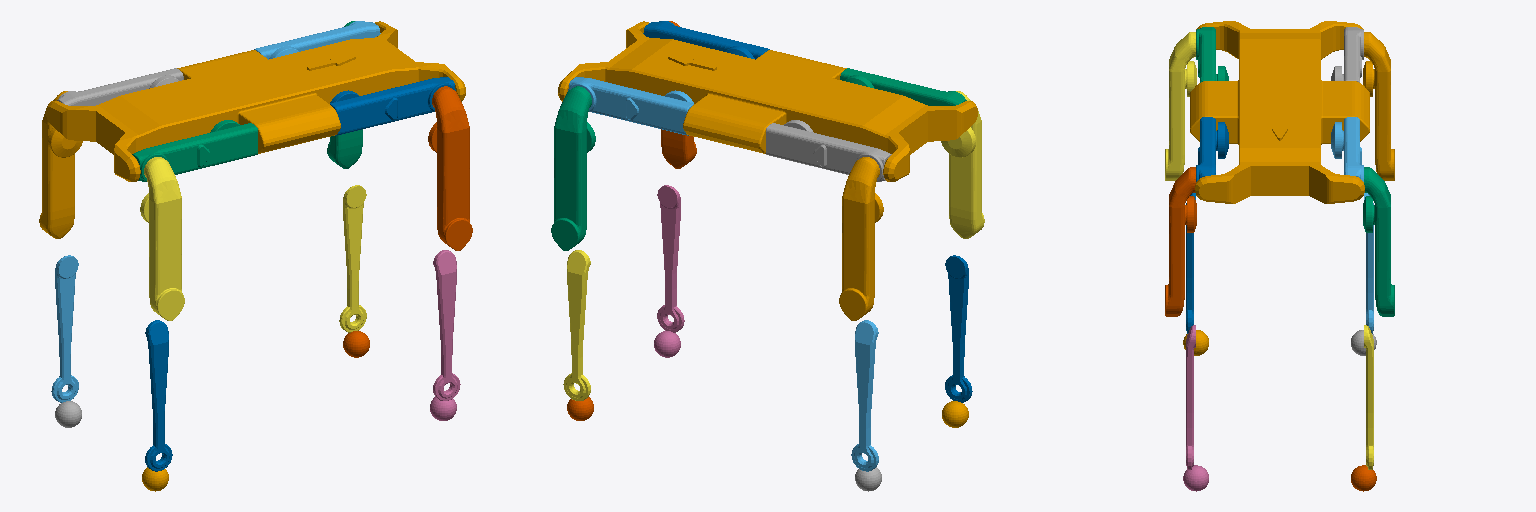
robot.urdf — mini_cheetah:
<?xml version="1.0" ?>
<robot name="mini_cheetah" xmlns:xacro="http://ros.org/wiki/xacro">
<!-- center of mass  0 0.0 0.0        -->
    <!--!!!!!!!!!!!!!!!!!!BODY!!!!!!!!!!!!!!!!!!!!!!!!!!!!!!!-->
    <link name="body">
        <inertial>
            <mass value="1258.31807296e-3"/>
            <origin xyz="-0.43736695e-2 -0.07737584e-2 0.08102850e-2"/>
      <inertia
        ixx="24223.93682550e-7"
        ixy="-907.91818721e-7"
        ixz="43.46649371e-7"
        iyy="186672.18928423e-7"
        iyz="-2.54822989e-7"
        izz="206033.06774587e-7" />
                </inertial>
        <visual>
            <geometry>
                <mesh filename="meshes/solo_12_base.obj"/>
            </geometry>
            <origin rpy="1.5707963267948966 0.0 0.0" xyz="0.0 0.0 0.0"/>
            <!-- <material
        name="base_link">
        <color 
          rgba="0 0 0 0.83" />
      </material> -->
        </visual>
        <!-- <collision>
            <geometry>
                <box size="0.23 0.19 0.1"/>
            </geometry>
            <origin rpy="0 0 0" xyz="0 0 0"/>
        </collision> -->
    </link>
<!-- 0.19 0.049    0.2141 0.0875 -->
<!-- moment sof inertia 0.0 0.036 0.    -11.05511528e-2 0.46677473e-2 -0.00136777e-2 -->
    <!--!!!!!!!!!!!! Front Left Leg !!!!!!!!!!!!!!!!!!!!!!!!!!!!!!!!!!!!-->
    <joint name="torso_to_abduct_fl_j" type="continuous">
        <axis xyz="1 0 0"/>
        <origin rpy="0 0 0" xyz="0.2141 0.0875 0.0 "/> 
        <parent link="body"/>
        <child link="abduct_fl"/>
        <limit effort="18" lower="-1.6" upper="1.6" velocity="40"/>
    </joint>
    <link name="abduct_fl">
        <inertial> 
            <mass value="143.68024490e-3"/>
            <origin xyz="-10.98765927e-2 -0.46677473e-2 0.00136777e-2"/>
      <inertia
        ixx="275.90047445e-7"
        ixy="-254.50227212e-7"
        ixz="0.71210009e-7"
        iyy="3863.78054959e-7"
        iyz="0.03414311e-7"
        izz="3839.41857894e-7" />
        </inertial>
        <visual>
            <geometry>
                <mesh filename="meshes/solo12_hip_fe_fl.obj"/>
            </geometry>
            <origin rpy="1.5707963267948966 0. 0." xyz="0 0 0.0"/>
        </visual>
        <!--
        <collision>
            <geometry>
                <cylinder length ="0.02" radius = "0.0475"/>
            </geometry>
            <origin rpy="0 1.5708 -1.5708" xyz="-0.055 0.0 0.0"/>
        </collision>
        <collision>
            <geometry>
                <cylinder length ="0.06" radius = "0.0475"/>
            </geometry>
            <origin rpy="1.5708 0.0 0.0" xyz="0.0 0.0 0.0"/>
        </collision>
        -->
    </link>

<!-- 0.0 0.062 0.00    -19.65e-3 14e-3 0 -->
    <joint name="abduct_fl_to_thigh_fl_j" type="continuous">
        <axis xyz="0 -1 0"/>
        <origin rpy="0.0 0.0 0.0" xyz="-19.65e-3 14e-3 0"/>
        <parent link="abduct_fl"/>
        <child link="thigh_fl"/>
        <limit effort="18" lower="-2.6" upper="2.6" velocity="40"/>
    </joint>
    <link name="thigh_fl">
        <inertial>
            <mass value="144.14222037e-3"/>
            <origin xyz="0.00174095e-2 1.57310796e-2 -6.91454765e-2"/>
      <inertia
        ixx="3814.98952871e-7"
        ixy="-0.07326249e-7"
        ixz="-0.91813078e-7"
        iyy="3789.60402317e-7"
        iyz="492.68237352e-7"
        izz="325.88466892e-7" />
        </inertial>
        <visual>
            <geometry>
                <mesh filename="meshes/solo12_upper_leg_left_side.obj"/>
            </geometry>
            <origin rpy="1.5707963267948966 0 0" xyz="0 0 0.0"/>
        </visual>
        <!--
        <collision>
            <geometry>
                <cylinder length ="0.21" radius = "0.025"/>
            </geometry>
            <origin rpy="0.0 0.0 0.0" xyz="0.0 0.0 -0.105"/>
        </collision>
        -->
    </link>

    <joint name="thigh_fl_to_knee_fl_j" type="continuous">
        <axis xyz="0 -1 0"/>
        <origin rpy="0.0 0 0.0" xyz="0.0 0.0 -0.209"/>
        <parent link="thigh_fl"/>
        <child link="shank_fl"/>
        <limit effort="26" lower="-2.6" upper="2.6" velocity="26"/>
    </joint>
    <link name="shank_fl">
        <inertial>
            <mass value="44.08831168e-3"/>
            <origin xyz="0.0 0.0 -0.209"/>
            <inertia ixx="0.000245" ixy="0" ixz="0.0" iyy="0.000248" iyz="0" izz="0.000006"/>
        </inertial>
        <visual>
            <geometry>
                <mesh filename="meshes/solo12_lower_leg_v2_left_side.obj"/>
            </geometry>
            <origin rpy="1.5707963267948966 0 0.0" xyz="0.0 0 0 "/>
        </visual>
        <!--
        <collision>
            <geometry>
                <cylinder length ="0.19" radius = "0.015"/>
            </geometry>
            <origin rpy="0.0 3.141592 0.0" xyz="0 0 -0.095"/>
        </collision>
        <collision>
            <geometry>
                <sphere radius = "0.0175"/>
            </geometry>
            <origin rpy="0.0 3.141592 0.0" xyz="0 0 -0.195"/>
        </collision>
        -->
    </link>

<!-- 0.19 -0.049    0.2141 -0.0875 -->
    <!--!!!!!!!!!!!! Front Right Leg !!!!!!!!!!!!!!!!!!!!!!!!!!!!!!!!!!!!-->
    <joint name="torso_to_abduct_fr_j" type="continuous">
        <axis xyz="1 0 0"/>
        <origin rpy="0 0 0" xyz="0.2141 -0.0875 0.0"/>
        <parent link="body"/>
        <child link="abduct_fr"/>
        <limit effort="18" lower="-1.6" upper="1.6" velocity="40"/>
    </joint>
    <link name="abduct_fr">
        <inertial>
            <mass value="143.68024490e-3"/>
            <origin xyz="-11.05511528e-2 0.46677473e-2 -0.00136777e-2"/>
      <inertia
        ixx="275.90047445e-7"
        ixy="249.97824669e-7"
        ixz="-0.69884355e-7"
        iyy="4013.39961851e-7"
        iyz="0.03414311e-7"
        izz="3989.03764786e-7" />
        </inertial>
        <visual>
            <geometry>
                <mesh filename="meshes/solo12_hip_fe_fr.obj"/>
            </geometry>
            <origin rpy="1.5707963267948966 0.0 0" xyz="0 0.0 0.0"/>
        </visual>
        <!--
        <collision>
            <geometry>
                <cylinder length ="0.02" radius = "0.0475"/>
            </geometry>
            <origin rpy="3.141592 1.5708 1.5708" xyz="-0.055 0 0"/>
        </collision>
        <collision>
            <geometry>
                <cylinder length ="0.06" radius = "0.0475"/>
            </geometry>
            <origin rpy="1.5708 0.0 0.0" xyz="-0.055 0 0"/>
        </collision>
        -->
    </link>

<!-- 0.0 -0.062 0.00    -19.65e-3 -14e-3 0 -->
    <joint name="abduct_fr_to_thigh_fr_j" type="continuous">
        <axis xyz="0 -1 0"/>
        <origin rpy="0.0 0.0 0.0" xyz="-19.65e-3 -14e-3 0"/>
        <parent link="abduct_fr"/>
        <child link="thigh_fr"/>
        <limit effort="18" lower="-2.6" upper="2.6" velocity="40"/>
    </joint>
    <link name="thigh_fr">
        <inertial>
            <mass value="144.14222037e-3"/>
            <origin xyz="-0.00174095e-2 -1.57310796e-2 -6.91454765e-2"/>
      <inertia
        ixx="3814.98952871e-7"
        ixy="-0.07326249e-7"
        ixz="0.91813078e-7"
        iyy="3789.60402317e-7"
        iyz="-492.68237352e-7"
        izz="325.88466892e-7" />
        </inertial>
        <visual>
            <geometry>
                <mesh filename="meshes/solo12_upper_leg_right_side.obj"/>
            </geometry>
            <origin rpy="1.5707963267948966 0 0" xyz="0.0 0.0 0.0"/>
        </visual>
        <!--
        <collision>
            <geometry>
                <cylinder length ="0.21" radius = "0.025"/>
            </geometry>
            <origin rpy="0.0 0.0 0.0" xyz="0.0 0.0 -0.105"/>
        </collision>
        -->
    </link>

    <joint name="thigh_fr_to_knee_fr_j" type="continuous">
        <axis xyz="0 -1 0"/>
        <origin rpy="0.0 0 0.0" xyz="0.0 0.0 -0.209"/>
        <parent link="thigh_fr"/>
        <child link="shank_fr"/>
        <limit effort="26" lower="-2.6" upper="2.6" velocity="26"/>
    </joint>
    <link name="shank_fr">
        <inertial>
            <mass value="44.08831168e-3"/>
            <origin xyz="0.0 0.0 -0.209"/>
            <inertia ixx="0.000245" ixy="0" ixz="0.0" iyy="0.000248" iyz="0" izz="0.000006"/>
        </inertial>
        <visual>
            <geometry>
                <mesh filename="meshes/solo12_lower_leg_v2_right_side.obj"/>
            </geometry>
            <origin rpy="1.5707963267948966 0 0.0" xyz="0.0 0.0 0.0"/>
        </visual>
        <!--
        <collision>
            <geometry>
                <cylinder length ="0.19" radius = "0.015"/>
            </geometry>
            <origin rpy="0.0 3.141592 0.0" xyz="0.0 0.0 -0.095"/>
        </collision>
        <collision>
            <geometry>
                <sphere radius = "0.0175"/>
            </geometry>
            <origin rpy="0.0 3.141592 0" xyz="0.0 0.0 -0.195"/>
        </collision>
        -->
    </link>

<!-- -0.19 0.049    -0.2141 0.0875 -->
    <!--!!!!!!!!!!!! Hind Left Leg !!!!!!!!!!!!!!!!!!!!!!!!!!!!!!!!!!!!-->
    <joint name="torso_to_abduct_hl_j" type="continuous">
        <axis xyz="1 0 0"/>
        <origin rpy="0 0 0" xyz="-0.2141 0.0875 0.0"/>
        <parent link="body"/>
        <child link="abduct_hl"/>
        <limit effort="18" lower="-1.6" upper="1.6" velocity="40"/>
    </joint>
    <link name="abduct_hl">
        <inertial>
            <mass value="143.68024490e-3"/>
            <origin xyz="11.05511528e-2 -0.46677473e-2 -0.00136777e-2"/>
      <inertia
        ixx="275.90047445e-7"
        ixy="249.97824669e-7"
        ixz="0.69884355e-7"
        iyy="4013.39961851e-7"
        iyz="-0.03414311e-7"
        izz="3989.03764786e-7" />
        </inertial>
        <visual>
            <geometry>
                <mesh filename="meshes/solo12_hip_fe_hl.obj"/>
            </geometry>
            <origin rpy="1.5707963267948966 0.0 0" xyz="0 0.0 0.0"/>
        </visual>
        <!--
        <collision>
            <geometry>
                <cylinder length ="0.02" radius = "0.0475"/>
            </geometry>
            <origin rpy="3.141592 1.5708 -1.5708" xyz="0.055 0 0"/>
        </collision>
        <collision>
            <geometry>
                <cylinder length ="0.06" radius = "0.0475"/>
            </geometry>
            <origin rpy="1.5708 0.0 0.0" xyz="0.0 0.0 0.0"/>
        </collision>
        -->
    </link>

<!-- 0.0 0.062 0.00    19.65e-3 14e-3 0 -->
    <joint name="abduct_hl_to_thigh_hl_j" type="continuous">
        <axis xyz="0 -1 0"/>
        <origin rpy="0.0 0.0 0.0" xyz="19.65e-3 14e-3 0 "/>
        <parent link="abduct_hl"/>
        <child link="thigh_hl"/>
        <limit effort="18" lower="-2.6" upper="2.6" velocity="40"/>
    </joint>
    <link name="thigh_hl">
        <inertial>
            <mass value="144.14222037e-3"/>
            <origin xyz="0.00174095e-2 1.57310796e-2 -6.91454765e-2"/>
      <inertia
        ixx="3814.98952871e-7"
        ixy="-0.07326249e-7"
        ixz="-0.91813078e-7"
        iyy="3789.60402317e-7"
        iyz="492.68237352e-7"
        izz="325.88466892e-7" />
        </inertial>
        <visual>
            <geometry>
                <mesh filename="meshes/solo12_upper_leg_left_side.obj"/>
            </geometry>
            <origin rpy="1.5707963267948966 0 0" xyz="0.0 0.0 0.0"/>
        </visual>
        <!--
        <collision>
            <geometry>
                <cylinder length ="0.21" radius = "0.025"/>
            </geometry>
            <origin rpy="0.0 0.0 0.0" xyz="0.0 0.0 -0.105"/>
        </collision>
        -->
    </link>

    <joint name="thigh_hl_to_knee_hl_j" type="continuous">
        <axis xyz="0 -1 0"/>
        <origin rpy="0.0 0 0.0" xyz="0.0 0.0 -0.209"/>
        <parent link="thigh_hl"/>
        <child link="shank_hl"/>
        <limit effort="26" lower="-2.6" upper="2.6" velocity="26"/>
    </joint>
    <link name="shank_hl">
        <inertial>
            <mass value="44.08831168e-3"/>
            <origin xyz="0.0 0.0 -0.209"/>
            <inertia ixx="0.000245" ixy="0" ixz="0.0" iyy="0.000248" iyz="0" izz="0.000006"/>
        </inertial>
        <visual>
            <geometry>
                <mesh filename="meshes/solo12_lower_leg_v2_left_side.obj"/>
            </geometry>
            <origin rpy="1.5707963267948966 0 0.0" xyz="0.0 0.0 0.0"/>
        </visual>
        <!--
        <collision>
            <geometry>
                <cylinder length ="0.19" radius = "0.015"/>
            </geometry>
            <origin rpy="0.0 3.141592 0.0" xyz="0.0 0.0 -0.095"/>
        </collision>
        <collision>
            <geometry>
                <sphere radius = "0.0175"/>
            </geometry>
            <origin rpy="0.0 3.141592 0.0" xyz="0.0 0.0 -0.195"/>
        </collision>
        -->
    </link>

<!-- -0.19 -0.049    -0.2141 -0.0875 -->
    <!--!!!!!!!!!!!! Hind Right Leg !!!!!!!!!!!!!!!!!!!!!!!!!!!!!!!!!!!!-->
    <joint name="torso_to_abduct_hr_j" type="continuous">
        <axis xyz="1 0 0"/>
        <origin rpy="0 0 0" xyz="-0.2141 -0.0875 0.0"/>
        <parent link="body"/>
        <child link="abduct_hr"/>
        <limit effort="18" lower="-1.6" upper="1.6" velocity="40"/>
    </joint>
    <link name="abduct_hr">
        <inertial>
            <mass value="143.68024490e-3"/>
            <origin xyz="10.98765927e-2 0.46677473e-2 0.00136777e-2"/>
      <inertia
        ixx="275.90047445e-7"
        ixy="254.50227212e-7"
        ixz="-0.71210009e-7"
        iyy="3863.78054959e-7"
        iyz="-0.03414311e-7"
        izz="3839.41857894e-7" />
        </inertial>
        <visual>
            <geometry>
                <mesh filename="meshes/solo12_hip_fe_hr.obj"/>
            </geometry>
            <origin rpy="1.5707963267948966 0.0 0" xyz="0 0.0 0.0"/>
        </visual>
        <!--
        <collision>
            <geometry>
                <cylinder length ="0.02" radius = "0.0475"/>
            </geometry>
            <origin rpy="0.0 1.5708 1.5708" xyz="0.055 0.0 0.0"/>
        </collision>
        <collision>
            <geometry>
                <cylinder length ="0.06" radius = "0.0475"/>
            </geometry>
            <origin rpy="1.5708 0.0 0.0" xyz="0.0 0.0 0.0"/>
        </collision>
        -->
    </link>

<!-- 0.0 -0.062 0.00    19.65e-3 -14e-3 0 -->
    <joint name="abduct_hr_to_thigh_hr_j" type="continuous">
        <axis xyz="0 -1 0"/>
        <origin rpy="0.0 0.0 0.0" xyz="19.65e-3 -14e-3 0"/>
        <parent link="abduct_hr"/>
        <child link="thigh_hr"/>
        <limit effort="18" lower="-2.6" upper="2.6" velocity="40"/>
    </joint>
    <link name="thigh_hr">
        <inertial>
            <mass value="144.14222037e-3"/>
            <origin xyz="-0.00174095e-2 -1.57310796e-2 -6.91454765e-2"/>
      <inertia
        ixx="3814.98952871e-7"
        ixy="-0.07326249e-7"
        ixz="0.91813078e-7"
        iyy="3789.60402317e-7"
        iyz="-492.68237352e-7"
        izz="325.88466892e-7" />
        </inertial>
        <visual>
            <geometry>
                <mesh filename="meshes/solo12_upper_leg_right_side.obj"/>
            </geometry>
            <origin rpy="1.5707963267948966 0 0" xyz="0.0 0.0 0.0"/>
        </visual>
        <!--
        <collision>
            <geometry>
                <cylinder length ="0.21" radius = "0.025"/>
            </geometry>
            <origin rpy="0.0 0.0 0.0" xyz="0.0 0.0 -0.105"/>
        </collision>
        -->
    </link>

    <joint name="thigh_hr_to_knee_hr_j" type="continuous">
        <axis xyz="0 -1 0"/>
        <origin rpy="0.0 0 0.0" xyz="0.0 0.0 -0.209"/>
        <parent link="thigh_hr"/>
        <child link="shank_hr"/>
        <limit effort="26" lower="-2.6" upper="2.6" velocity="26"/>
    </joint>
    <link name="shank_hr">
        <inertial>
            <mass value="44.08831168e-3"/>
            <origin xyz="0.0 0.0 -0.209"/>
            <inertia ixx="0.000245" ixy="0" ixz="0.0" iyy="0.000248" iyz="0" izz="0.000006"/>
        </inertial>
        <visual>
            <geometry>
                <mesh filename="meshes/solo12_lower_leg_v2_right_side.obj"/>
            </geometry>
            <origin rpy="1.5707963267948966 0 0.0" xyz="0 0 0"/>
        </visual>
        <!--
        <collision>
            <geometry>
                <cylinder length ="0.19" radius = "0.015"/>
            </geometry>
            <origin rpy="0.0 3.141592 0.0" xyz="0 0 -0.095"/>
        </collision>
        <collision>
            <geometry>
                <sphere radius = "0.0175"/>
            </geometry>
            <origin rpy="0.0 3.141592 0.0" xyz="0.0 0.0 -0.195"/>
        </collision>
        -->
    </link>

<!-- distance 0.0175  0.0159  r=  0.190 0.0159 -->
    <!-- Add foot links to enable relevent computations, including better collision detection -->
    <joint name="shank_fl_to_foot_fl" type="fixed">
        <parent link="shank_fl"/>
        <child link="LF_FOOT"/>
        <origin rpy="0.0 0.0 0.0" xyz="0.0 0.0 -0.190"/>
    </joint>
    <link name="LF_FOOT">
        <inertial>
            <mass value="0.005"/>
        </inertial>
        <collision>
            <geometry>
                <sphere radius = "0.0159"/>
            </geometry>
            <origin rpy="0.0 0.0 0.0" xyz="0.0 0.0 0.0"/>
        </collision>
        <visual>
            <geometry>
                <sphere radius = "0.0159"/>
            </geometry>
            <origin rpy="0.0 0.0 0.0" xyz="0.0 0.0 0.0"/>
        </visual>
    </link>
    
    <joint name="shank_fr_to_foot_fr" type="fixed">
        <parent link="shank_fr"/>
        <child link="RF_FOOT"/>
        <origin rpy="0.0 0.0 0.0" xyz="0.0 0.0 -0.190"/>
    </joint>
    <link name="RF_FOOT">
        <inertial>
            <mass value="0.005"/>
        </inertial>
        <collision>
            <geometry>
                <sphere radius = "0.0159"/>
            </geometry>
            <origin rpy="0.0 0.0 0.0" xyz="0.0 0.0 0.0"/>
        </collision>
        <visual>
            <geometry>
                <sphere radius = "0.0159"/>
            </geometry>
            <origin rpy="0.0 0.0 0.0" xyz="0.0 0.0 0.0"/>
        </visual>
    </link>
    
    <joint name="shank_hl_to_foot_hl" type="fixed">
        <parent link="shank_hl"/>
        <child link="LH_FOOT"/>
        <origin rpy="0.0 0.0 0.0" xyz="0.0 0.0 -0.190"/>
    </joint>
    <link name="LH_FOOT">
        <inertial>
            <mass value="0.005"/>
        </inertial>
        <collision>
            <geometry>
                <sphere radius = "0.0159"/>
            </geometry>
            <origin rpy="0.0 0.0 0.0" xyz="0.0 0.0 0.0"/>
        </collision>
        <visual>
            <geometry>
                <sphere radius = "0.0159"/>
            </geometry>
            <origin rpy="0.0 0.0 0.0" xyz="0.0 0.0 0.0"/>
        </visual>
    </link>
    
    <joint name="shank_hr_to_foot_hr" type="fixed">
        <parent link="shank_hr"/>
        <child link="RH_FOOT"/>
        <origin rpy="0.0 0.0 0.0" xyz="0.0 0.0 -0.190"/>
    </joint>
    <link name="RH_FOOT">
        <inertial>
            <mass value="0.005"/>
        </inertial>
        <collision>
            <geometry>
                <sphere radius = "0.0159"/>
            </geometry>
            <origin rpy="0.0 0.0 0.0" xyz="0.0 0.0 0.0"/>
        </collision>
        <visual>
            <geometry>
                <sphere radius = "0.0159"/>
            </geometry>
            <origin rpy="0.0 0.0 0.0" xyz="0.0 0.0 0.0"/>
        </visual>
    </link>

    <!-- Joint Transmissions: Tells Drake that these are actuated -->
    <transmission name="torso_to_abduct_fl_j_transmission">
        <type>transmission_interface/SimpleTransmission</type>
        <joint name="torso_to_abduct_fl_j"/>
        <actuator name="torso_to_abduct_fl_j_actuator"/>
    </transmission>
    <transmission name="abduct_fl_to_thigh_fl_j_transmission">
        <type>transmission_interface/SimpleTransmission</type>
        <joint name="abduct_fl_to_thigh_fl_j"/>
        <actuator name="abduct_fl_to_thigh_fl_j_actuator"/>
    </transmission>
    <transmission name="thigh_fl_to_knee_fl_j_transmission">
        <type>transmission_interface/SimpleTransmission</type>
        <joint name="thigh_fl_to_knee_fl_j"/>
        <actuator name="thigh_fl_to_knee_fl_j_actuator"/>
    </transmission>

    <transmission name="torso_to_abduct_fr_j_transmission">
        <type>transmission_interface/SimpleTransmission</type>
        <joint name="torso_to_abduct_fr_j"/>
        <actuator name="torso_to_abduct_fr_j_actuator"/>
    </transmission>
    <transmission name="abduct_fr_to_thigh_fr_j_transmission">
        <type>transmission_interface/SimpleTransmission</type>
        <joint name="abduct_fr_to_thigh_fr_j"/>
        <actuator name="abduct_fr_to_thigh_fr_j_actuator"/>
    </transmission>
    <transmission name="thigh_fr_to_knee_fr_j_transmission">
        <type>transmission_interface/SimpleTransmission</type>
        <joint name="thigh_fr_to_knee_fr_j"/>
        <actuator name="thigh_fr_to_knee_fr_j_actuator"/>
    </transmission>

    <transmission name="torso_to_abduct_hl_j_transmission">
        <type>transmission_interface/SimpleTransmission</type>
        <joint name="torso_to_abduct_hl_j"/>
        <actuator name="torso_to_abduct_hl_j_actuator"/>
    </transmission>
    <transmission name="abduct_hl_to_thigh_hl_j_transmission">
        <type>transmission_interface/SimpleTransmission</type>
        <joint name="abduct_hl_to_thigh_hl_j"/>
        <actuator name="abduct_hl_to_thigh_hl_j_actuator"/>
    </transmission>
    <transmission name="thigh_hl_to_knee_hl_j_transmission">
        <type>transmission_interface/SimpleTransmission</type>
        <joint name="thigh_hl_to_knee_hl_j"/>
        <actuator name="thigh_hl_to_knee_hl_j_actuator"/>
    </transmission>

    <transmission name="torso_to_abduct_hr_j_transmission">
        <type>transmission_interface/SimpleTransmission</type>
        <joint name="torso_to_abduct_hr_j"/>
        <actuator name="torso_to_abduct_hr_j_actuator"/>
    </transmission>
    <transmission name="abduct_hr_to_thigh_hr_j_transmission">
        <type>transmission_interface/SimpleTransmission</type>
        <joint name="abduct_hr_to_thigh_hr_j"/>
        <actuator name="abduct_hr_to_thigh_hr_j_actuator"/>
    </transmission>
    <transmission name="thigh_hr_to_knee_hr_j_transmission">
        <type>transmission_interface/SimpleTransmission</type>
        <joint name="thigh_hr_to_knee_hr_j"/>
        <actuator name="thigh_hr_to_knee_hr_j_actuator"/>
    </transmission>

</robot>

--- Facts derived from the render (not from the file) ---
Views: 3 orthographic renders of the robot side by side, from view 1: azimuth 30°, elevation 25°; view 2: azimuth 150°, elevation 25°; view 3: azimuth 270°, elevation 25°.
Model mini_cheetah with 17 links and 16 joints (12 continuous, 4 fixed), rooted at body, posed every joint at zero.
Visible links, largest first — view 1: body, thigh_fr, thigh_hr, abduct_hr, abduct_fr, thigh_hl, shank_hr, shank_fr, shank_fl, shank_hl, abduct_hl, abduct_fl (+3 smaller); view 2: body, thigh_fl, thigh_hl, abduct_hl, abduct_fl, thigh_hr, shank_hl, shank_fl, shank_fr, shank_hr, abduct_hr, abduct_fr (+3 smaller); view 3: body, thigh_fl, thigh_fr, thigh_hr, thigh_hl, abduct_fr, abduct_fl, abduct_hl, abduct_hr, shank_fl, shank_fr, shank_hl (+1 smaller).
Link boxes in pixels (x1,y1,x2,y2): body: [46, 21, 465, 181]; thigh_fr: [428, 86, 472, 250]; thigh_hr: [140, 157, 184, 320]; abduct_hr: [132, 120, 257, 181]; abduct_fr: [330, 77, 455, 135]; thigh_hl: [39, 91, 82, 238]; shank_hr: [145, 320, 172, 471]; shank_fr: [433, 250, 460, 400]; shank_fl: [339, 185, 366, 332]; shank_hl: [51, 255, 78, 402]; abduct_hl: [57, 68, 183, 105]; abduct_fl: [254, 21, 380, 59]; body: [558, 21, 977, 181]; thigh_fl: [551, 86, 595, 250]; thigh_hl: [839, 157, 883, 320]; abduct_hl: [766, 120, 891, 181]; abduct_fl: [568, 77, 693, 135]; thigh_hr: [941, 91, 984, 238]; shank_hl: [851, 320, 878, 471]; shank_fl: [563, 250, 590, 400]; shank_fr: [657, 185, 684, 332]; shank_hr: [945, 255, 972, 402]; abduct_hr: [840, 68, 966, 105]; abduct_fr: [643, 21, 769, 59]; body: [1190, 21, 1369, 203]; thigh_fl: [1363, 167, 1394, 316]; thigh_fr: [1165, 167, 1196, 316]; thigh_hr: [1165, 32, 1196, 180]; thigh_hl: [1363, 32, 1394, 180]; abduct_fr: [1196, 117, 1228, 181]; abduct_fl: [1331, 117, 1363, 181]; abduct_hl: [1331, 27, 1363, 82]; abduct_hr: [1196, 27, 1228, 82]; shank_fl: [1364, 325, 1373, 469]; shank_fr: [1186, 325, 1195, 469]; shank_hl: [1364, 193, 1373, 333].
Bounding box of the posed robot: 0.4542 × 0.2779 × 0.4429 m (x, y, z).
13 mesh visuals loaded from 9 distinct referenced files (9 OBJ).
